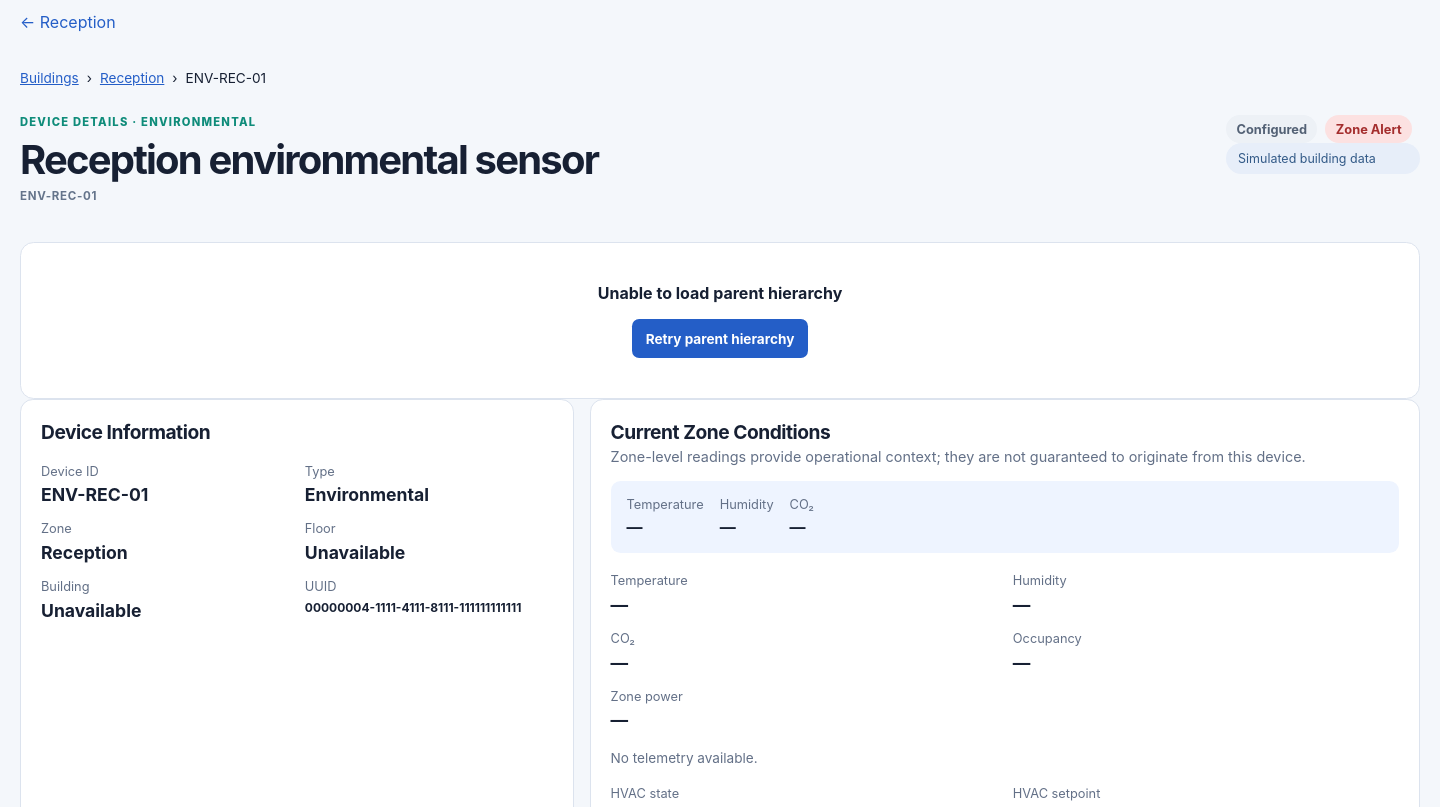
Test: M17 Device Details › retains identity and safe zone history when floor context fails
Expected: the heading "Unable to load parent hierarchy" is shown, [598,283,842,303]
Expected: the text "23.8 °C" is not shown
Click the button "Retry parent hierarchy" at (720, 339), box [632,319,808,358]
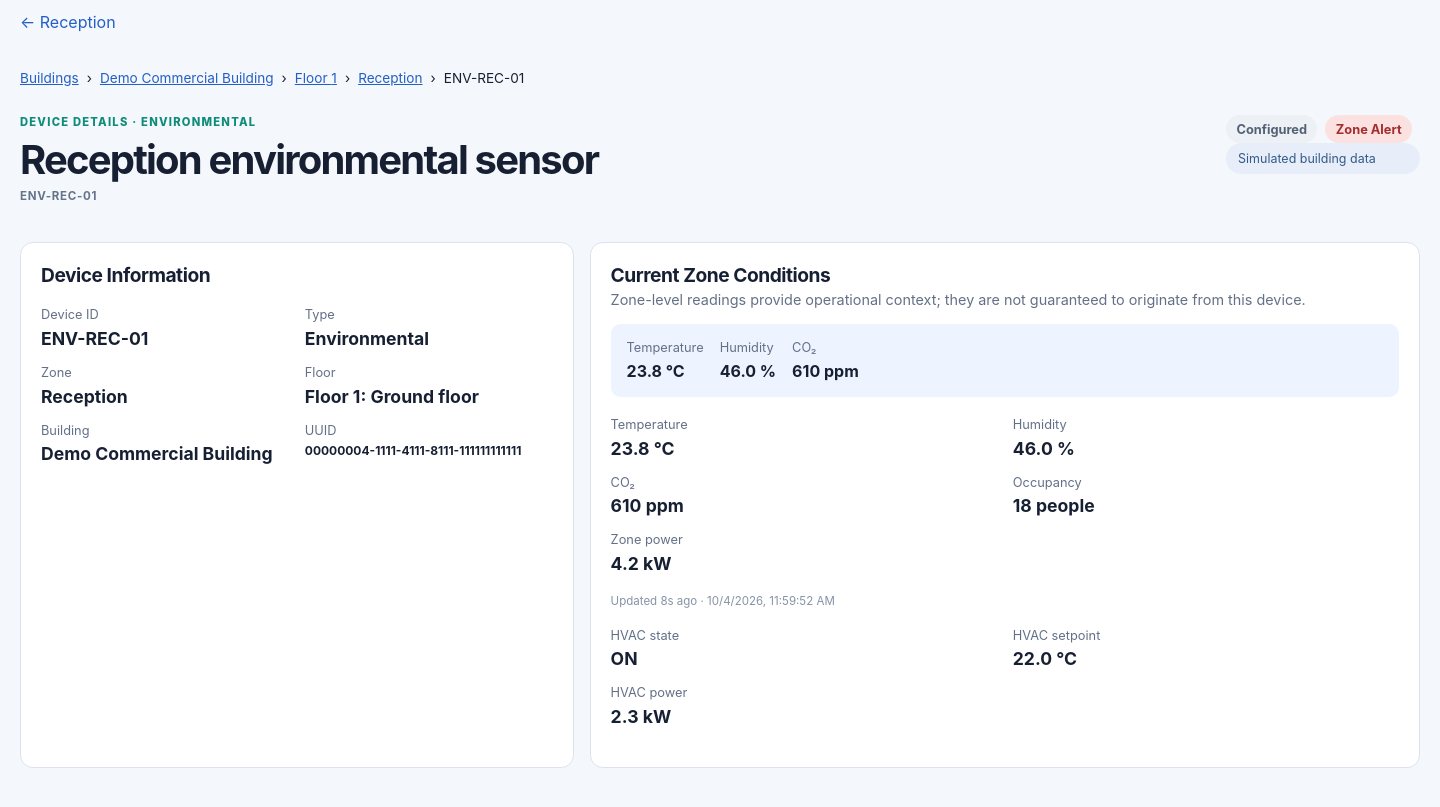
Now the text "Updated 8s ago · 10/4/2026, 11:59:52 AM" is shown, box [611,594,835,608]
